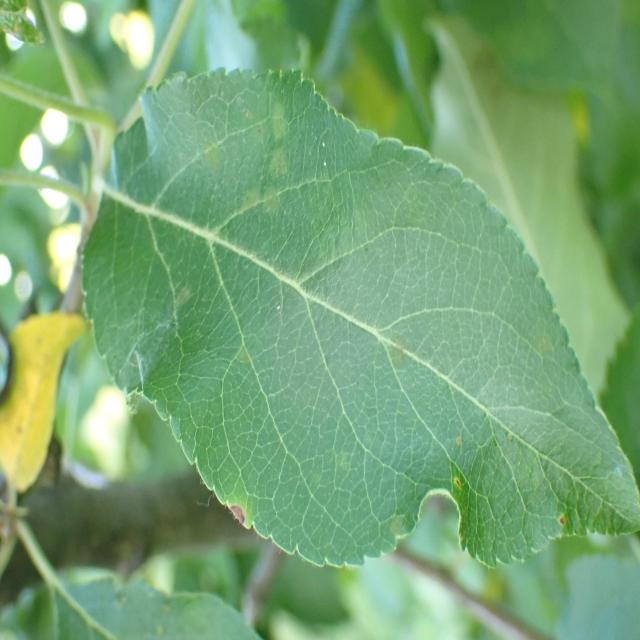scab: (124, 98, 580, 538)
